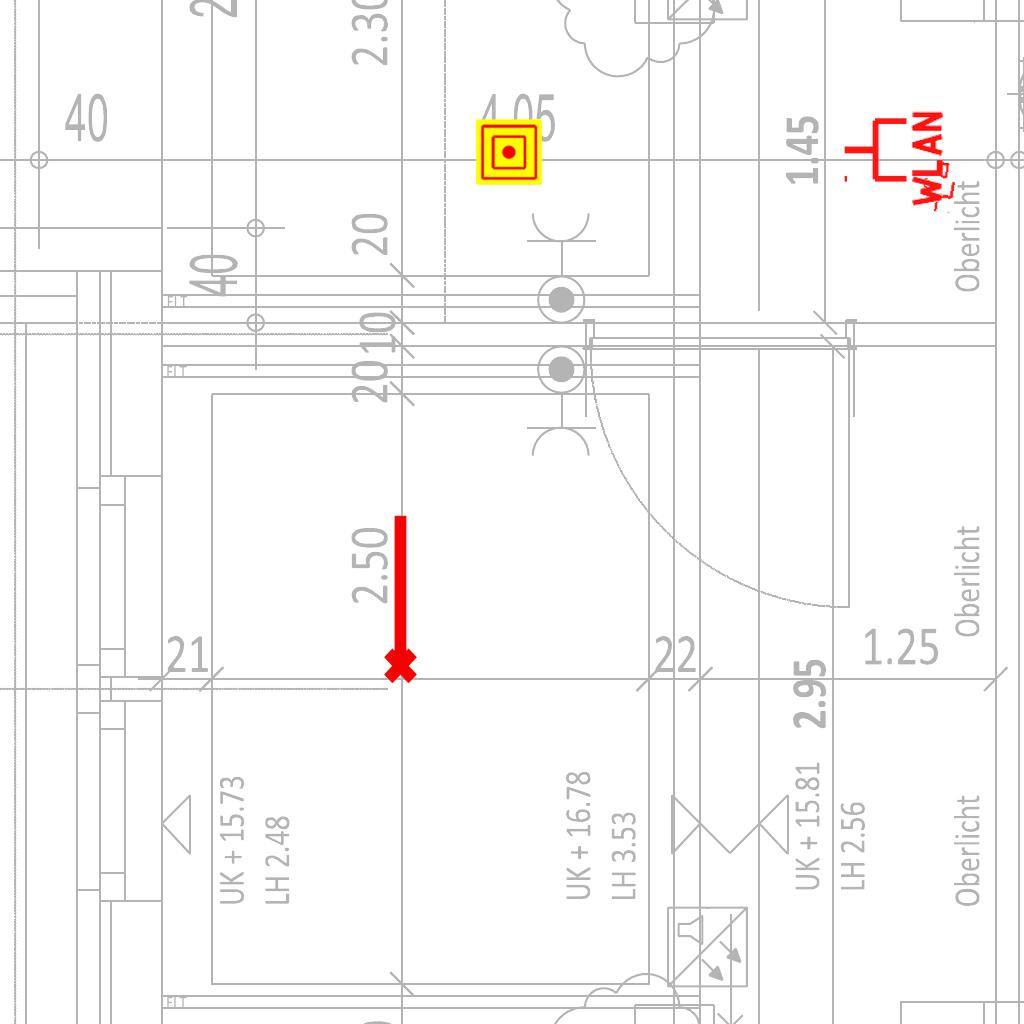ASR_Ansaugoeffnung: (375, 510, 421, 686)
Datenanschluss_einfach: (918, 159, 960, 215)
NAM-Nichtautomatischer_Melder: (476, 119, 542, 185)
WLAN: (840, 107, 945, 211)
